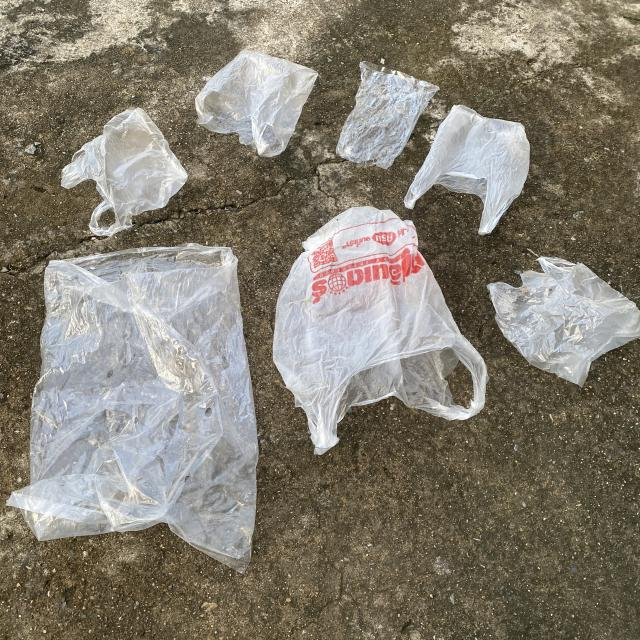Single-layer Plastic: (8, 244, 258, 572), (274, 206, 488, 454), (488, 258, 640, 386), (404, 105, 530, 235), (61, 108, 188, 236), (195, 50, 318, 156), (336, 61, 439, 169)
